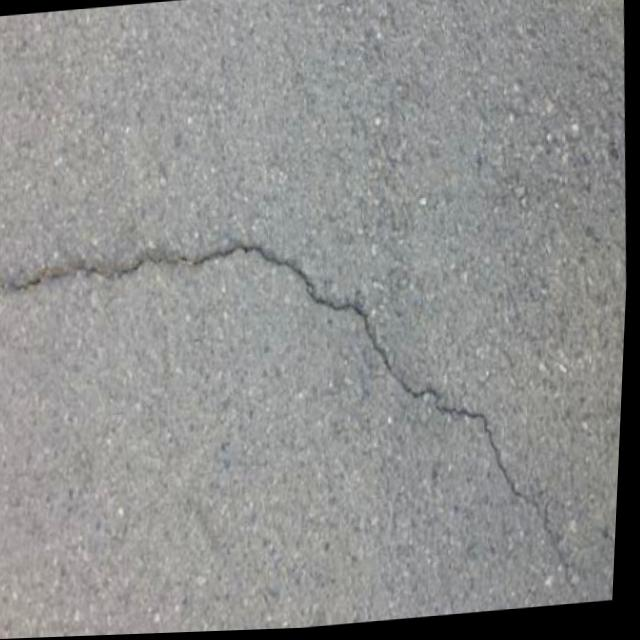Crack: (0, 206, 606, 637)
